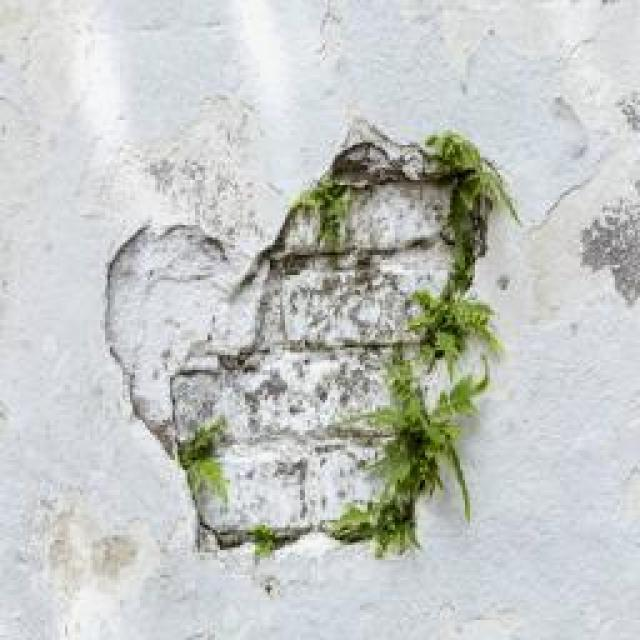Crack: (162, 115, 518, 559)
